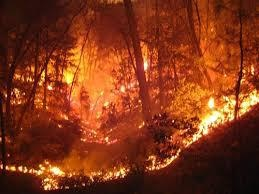fire: (16, 30, 258, 176), (0, 147, 69, 190), (88, 160, 129, 180)
